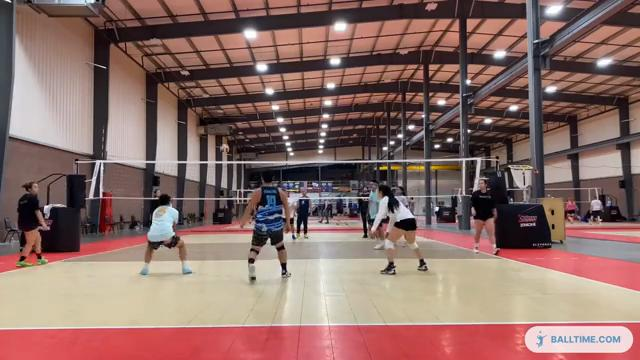ricezione: (133, 188, 194, 279)
